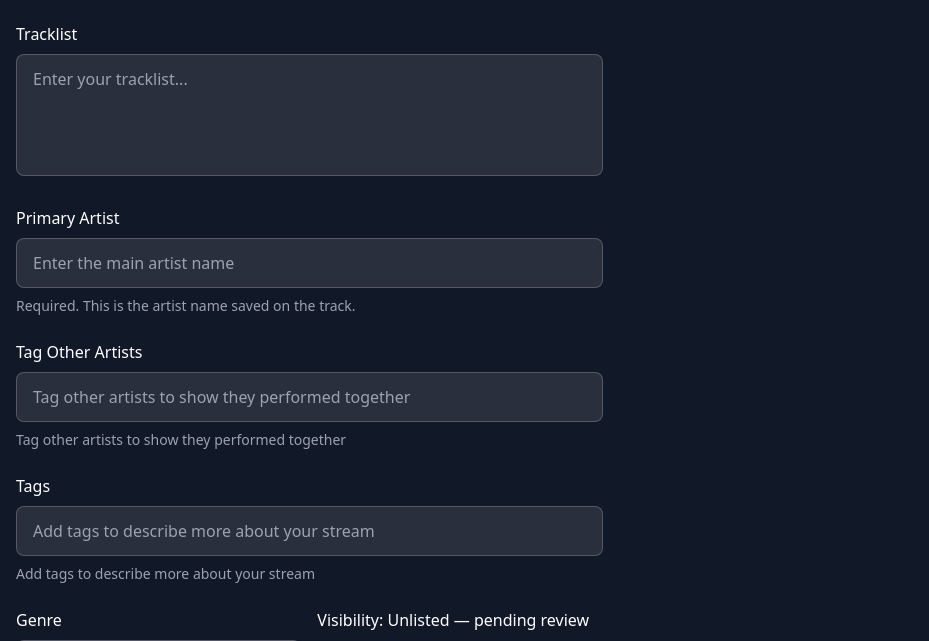
Test case: Upload duplicate preflight › does not send audio after a empty response
Earlier steps of the test are not shown.
(page scrolled)
Type "Mr Dominate SA" into the field with placeholder "Enter the main artist name" at [309, 263], box [16, 238, 603, 288]
(page scrolled)
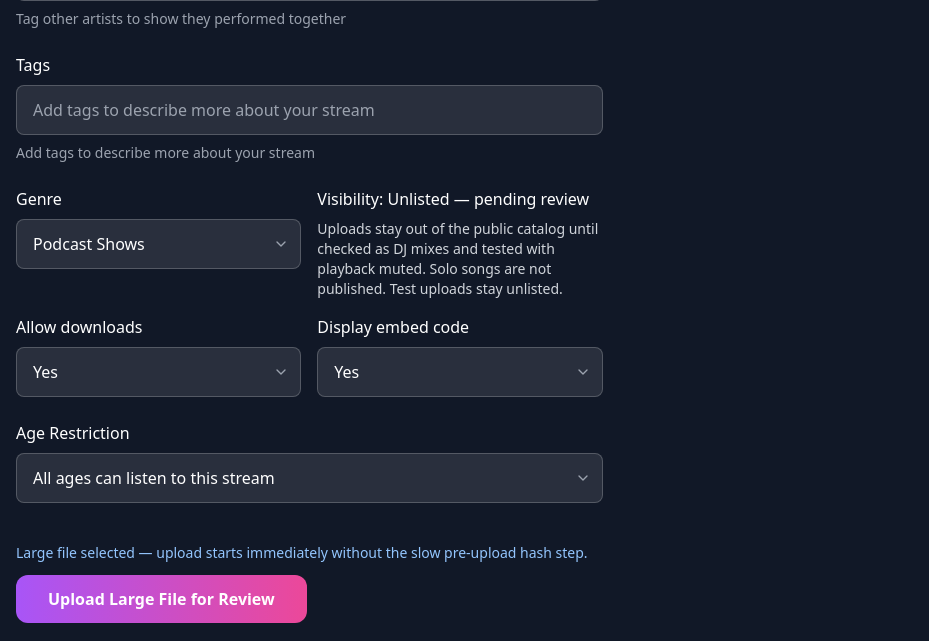
Click the button "Upload Large File for Review" at [161, 599], box [16, 575, 307, 623]
(page scrolled)
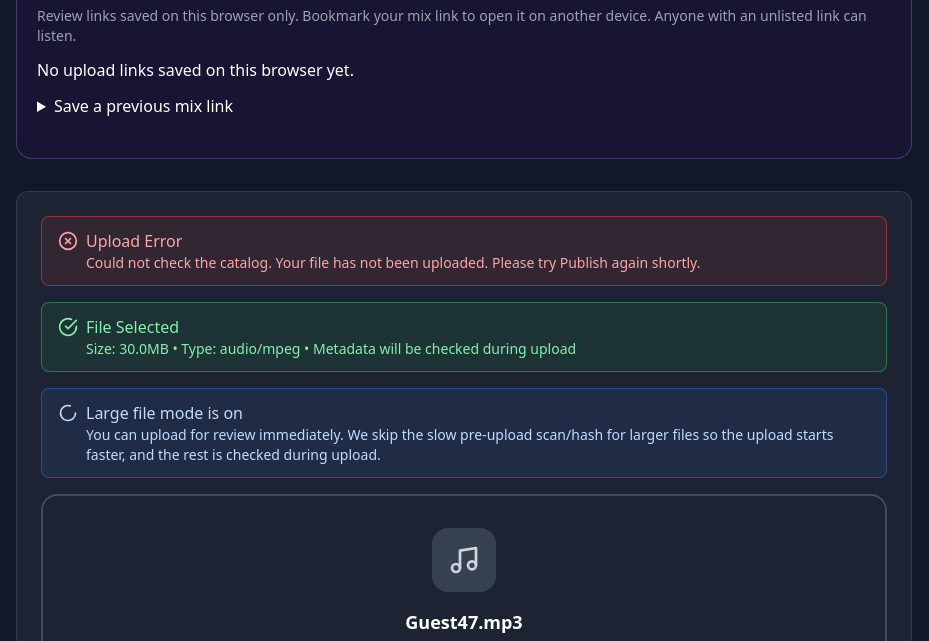
Check: the text "Could not check the catalog" is shown, box [86, 253, 700, 272]
